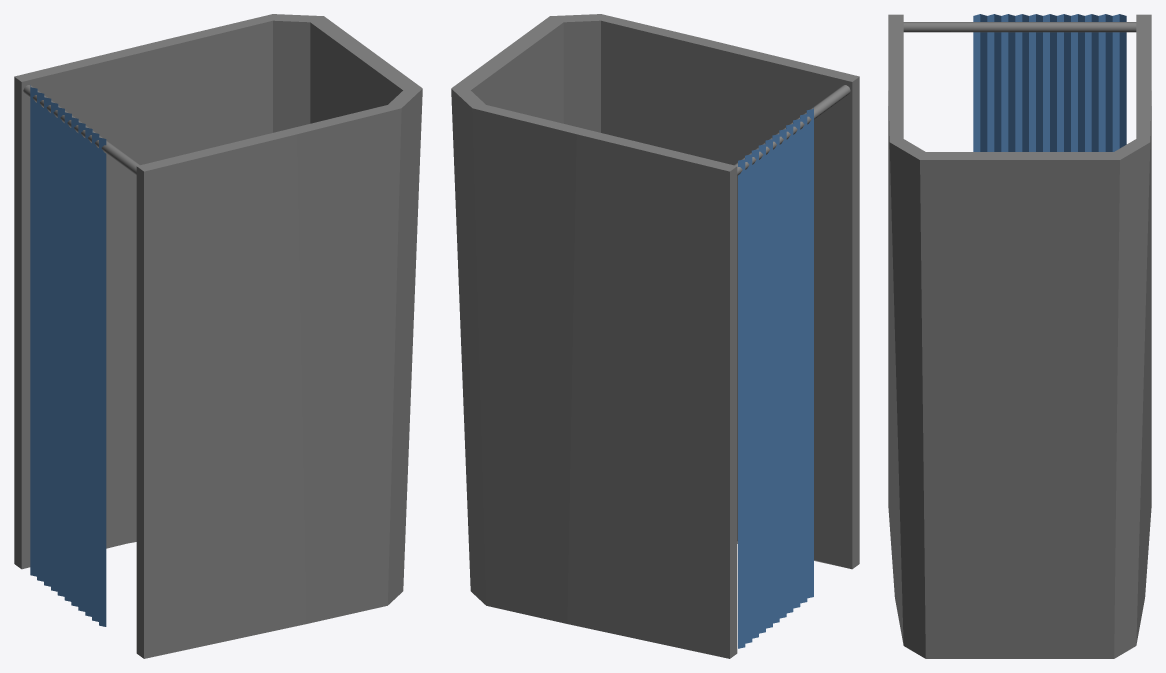
The model's file is uwmstoilet.glb.
3 renders of one model, left to right at view 1: azimuth 30°, elevation 25°; view 2: azimuth 150°, elevation 25°; view 3: azimuth 270°, elevation 25°, orthographic.
Visible parts, largest first — view 1: Cube.019, Plane, Cylinder.008; view 2: Cube.019, Plane, Cylinder.008; view 3: Cube.019, Plane, Cylinder.008.
Boxes of the visible parts, x1,y1,x2,y2 form: Cube.019: (14, 14, 422, 658); Plane: (30, 85, 106, 626); Cylinder.008: (23, 85, 139, 175); Cube.019: (451, 14, 859, 658); Plane: (738, 107, 813, 648); Cylinder.008: (734, 85, 850, 175); Cube.019: (888, 14, 1151, 658); Plane: (973, 14, 1126, 151); Cylinder.008: (903, 22, 1136, 32).
Bounding box in the file's own units: 5.29 × 8.61 × 4.04.
